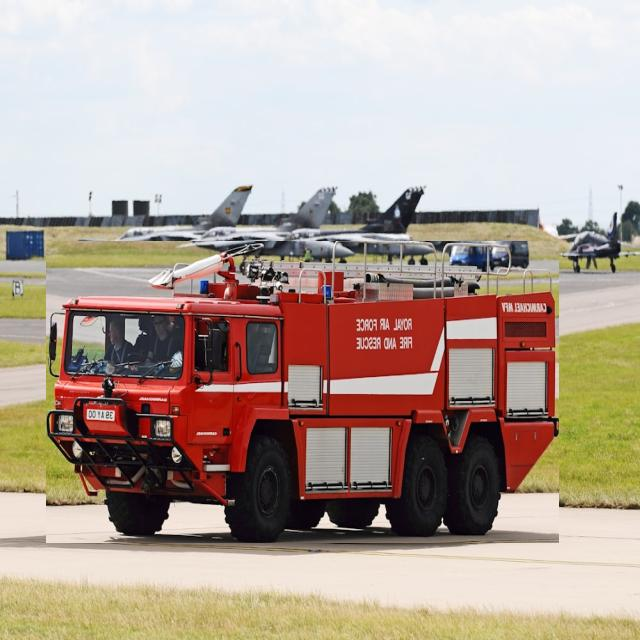emergency: (46, 241, 559, 543)
